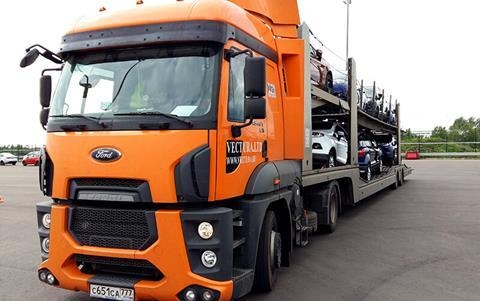plate: (86, 280, 140, 301)
truck: (32, 1, 414, 299)
